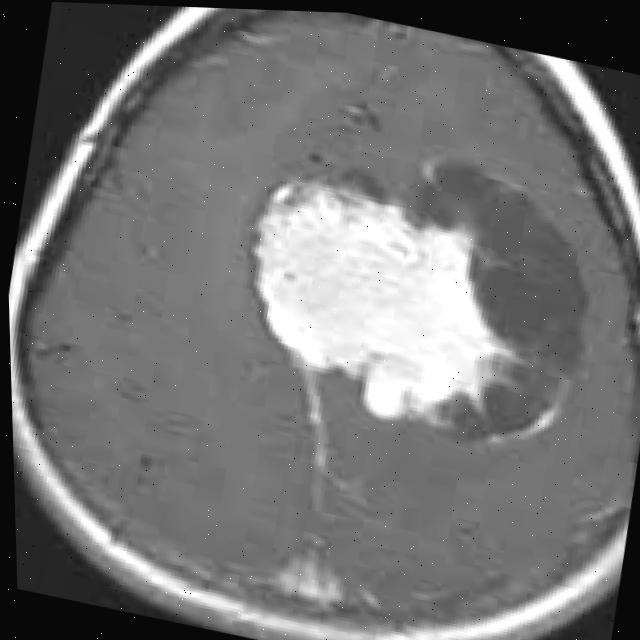Meningioma: (223, 163, 545, 452)
